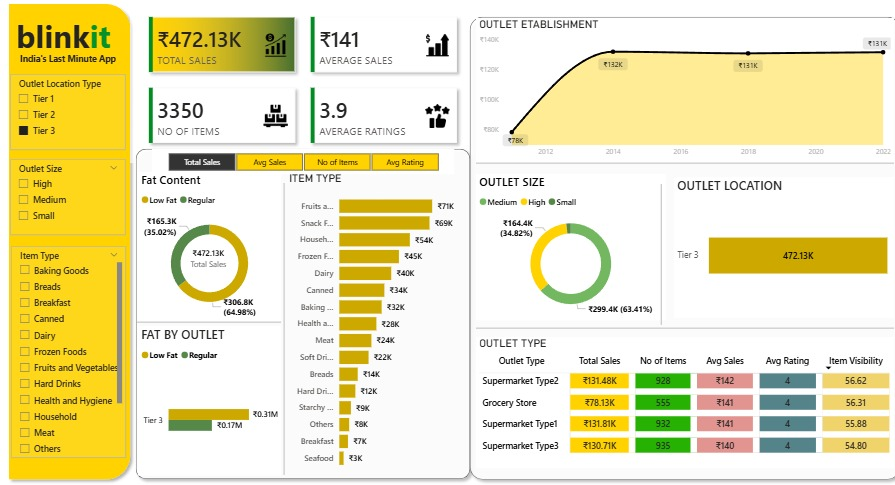

The page's visual inventory and layout, read from the dashboard file:
{"tool":"powerbi","page":{"name":"Page 1","canvas":[1400,800],"ordinal":0},"visuals":[{"type":"shape","box":[10,0,205,750],"z":0},{"type":"textbox","box":[26.8,20.5,159.1,75.6],"z":1000},{"type":"textbox","box":[15.7,80.3,190.6,31.5],"z":2000},{"type":"cardVisual","fields":{"Data":["BlinkIT Grocery Data.Total Sales","BlinkIT Grocery Data.Avg Sales","BlinkIT Grocery Data.No of Items","BlinkIT Grocery Data.Avg Rating"]},"box":[206.3,0,532.3,253.5],"z":3000},{"type":"shape","box":[206.3,223.6,532.3,526],"z":4000},{"type":"donutChart","title":"Fat Content","fields":{"Y":["BlinkIT Grocery Data.Total Sales"],"Category":["BlinkIT Grocery Data.Item Fat Content"]},"box":[218.3,268.3,220,230],"z":5000},{"type":"slicer","fields":{"Values":["Metrics 3.Metrics"]},"box":[239.4,233.1,464.6,39.4],"z":6000},{"type":"cardVisual","fields":{"Data":["BlinkIT Grocery Data.Total Sales"]},"box":[268.3,365,118.3,71.7],"z":7000},{"type":"clusteredBarChart","title":"FAT BY OUTLET","fields":{"Y":["BlinkIT Grocery Data.Total Sales"],"Category":["BlinkIT Grocery Data.Outlet Location Type"],"Series":["BlinkIT Grocery Data.Item Fat Content"]},"box":[218.9,503.9,220.5,229.9],"z":8000},{"type":"shape","box":[216.7,455,221.7,86.7],"z":9000},{"type":"shape","box":[434.6,285,15.7,448.8],"z":10000},{"type":"barChart","title":"ITEM TYPE","fields":{"Y":["BlinkIT Grocery Data.Total Sales"],"Category":["BlinkIT Grocery Data.Item Type"]},"box":[445.7,267.7,274,466.1],"z":11000},{"type":"shape","box":[720,20,680,730],"z":12000},{"type":"lineChart","title":"OUTLET ETABLISHMENT","fields":{"Y":["BlinkIT Grocery Data.Total Sales"],"Category":["BlinkIT Grocery Data.Outlet Establishment Year"]},"box":[738.3,30,643.3,223.3],"z":13000},{"type":"donutChart","title":"OUTLET SIZE","fields":{"Y":["BlinkIT Grocery Data.Total Sales"],"Category":["BlinkIT Grocery Data.Outlet Size"]},"box":[738.3,270,291.7,225],"z":14000},{"type":"shape","box":[1016.7,286.7,13.3,216.7],"z":15000},{"type":"funnel","title":"OUTLET LOCATION","fields":{"Category":["BlinkIT Grocery Data.Outlet Location Type"],"Y":["Sum(BlinkIT Grocery Data.Sales)"]},"box":[1043.3,275,338.3,216.7],"z":16000},{"type":"shape","box":[738.3,465,643.3,86.7],"z":17000},{"type":"pivotTable","title":"OUTLET TYPE","fields":{"Rows":["BlinkIT Grocery Data.Outlet Type"],"Values":["BlinkIT Grocery Data.Total Sales","BlinkIT Grocery Data.No of Items","BlinkIT Grocery Data.Avg Sales","BlinkIT Grocery Data.Avg Rating","Sum(BlinkIT Grocery Data.Item Visibility)"]},"box":[738.3,521.7,643.3,201.7],"z":18000},{"type":"shape","box":[738.3,210,643.3,86.7],"z":19000},{"type":"slicer","fields":{"Values":["BlinkIT Grocery Data.Outlet Location Type"]},"box":[21.7,116.7,178.3,116.7],"z":20000},{"type":"slicer","fields":{"Values":["BlinkIT Grocery Data.Outlet Size"]},"box":[21.7,248.3,178.3,116.7],"z":21000},{"type":"slicer","fields":{"Values":["BlinkIT Grocery Data.Item Type"]},"box":[23.3,381.7,176.7,341.7],"z":22000}]}

Visuals, with their boxes on the page's 1400x800 design canvas (x1, y1, x2, y2). These are canvas units, not pixel positions in the 895x485 screenshot, which may show the page scaled, cropped or inside an application window:
shape: Rect(10, 0, 215, 750)
textbox: Rect(27, 20, 186, 96)
textbox: Rect(16, 80, 206, 112)
cardVisual - BlinkIT Grocery Data.Total Sales x BlinkIT Grocery Data.Avg Sales: Rect(206, 0, 739, 254)
shape: Rect(206, 224, 739, 750)
"Fat Content" donutChart: Rect(218, 268, 438, 498)
slicer - Metrics 3.Metrics: Rect(239, 233, 704, 272)
cardVisual - BlinkIT Grocery Data.Total Sales: Rect(268, 365, 387, 437)
"FAT BY OUTLET" clusteredBarChart: Rect(219, 504, 439, 734)
shape: Rect(217, 455, 438, 542)
shape: Rect(435, 285, 450, 734)
"ITEM TYPE" barChart: Rect(446, 268, 720, 734)
shape: Rect(720, 20, 1400, 750)
"OUTLET ETABLISHMENT" lineChart: Rect(738, 30, 1382, 253)
"OUTLET SIZE" donutChart: Rect(738, 270, 1030, 495)
shape: Rect(1017, 287, 1030, 503)
"OUTLET LOCATION" funnel: Rect(1043, 275, 1382, 492)
shape: Rect(738, 465, 1382, 552)
"OUTLET TYPE" pivotTable: Rect(738, 522, 1382, 723)
shape: Rect(738, 210, 1382, 297)
slicer - BlinkIT Grocery Data.Outlet Location Type: Rect(22, 117, 200, 233)
slicer - BlinkIT Grocery Data.Outlet Size: Rect(22, 248, 200, 365)
slicer - BlinkIT Grocery Data.Item Type: Rect(23, 382, 200, 723)
